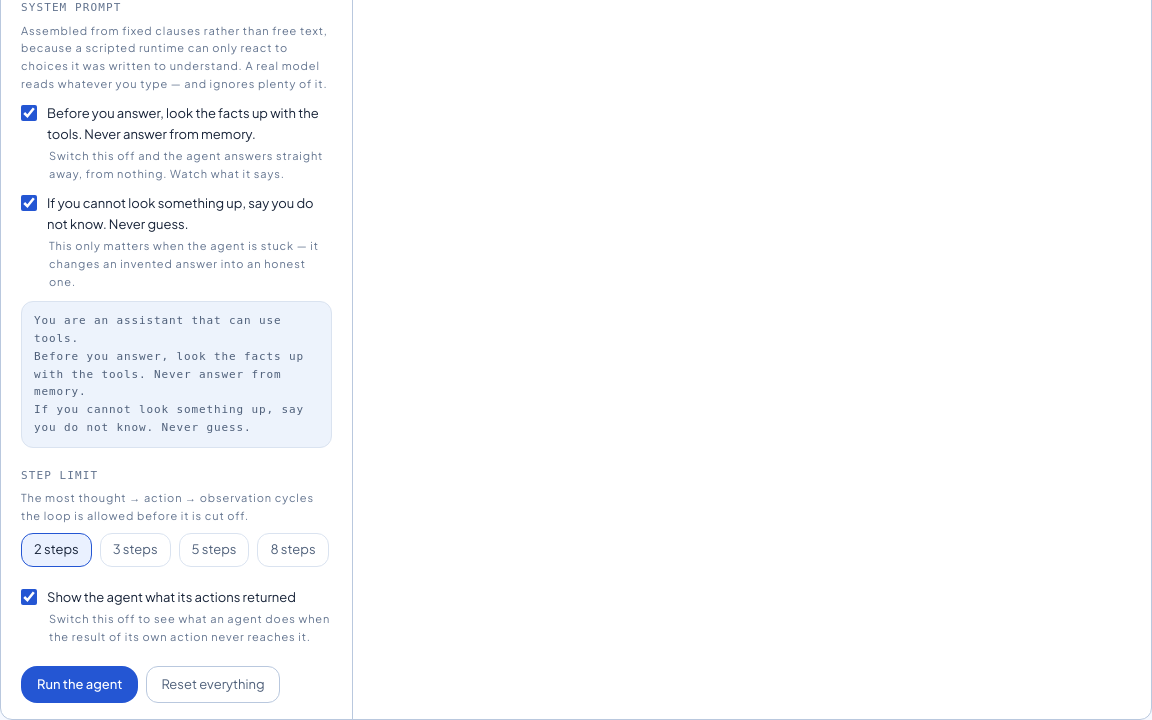
AgentLab — stepping through a trace › steps back as well as forward, and cannot go back past the first frame
This screenshot has width=1152, height=720.
(page scrolled)
Click the button "Run the agent" at (80, 684), box [21, 666, 138, 703]
(page scrolled)
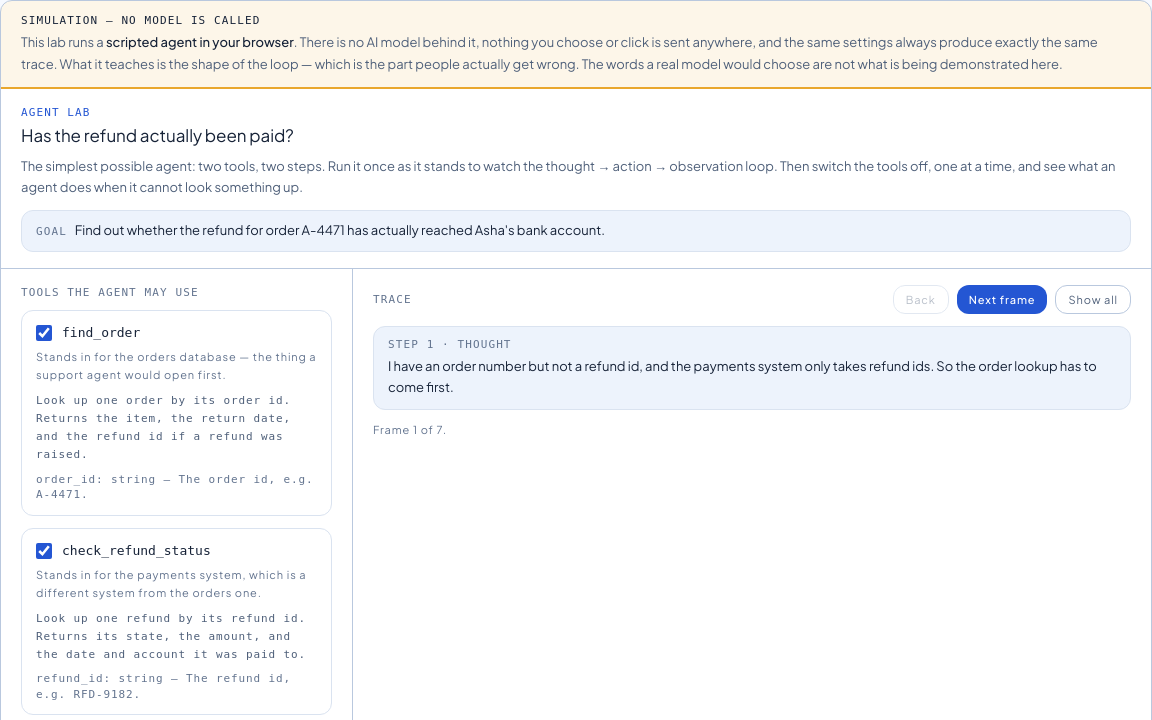
Now the button "Back" is disabled, box [893, 285, 949, 314]
Click the button "Next frame" at (1002, 299), box [957, 285, 1048, 314]
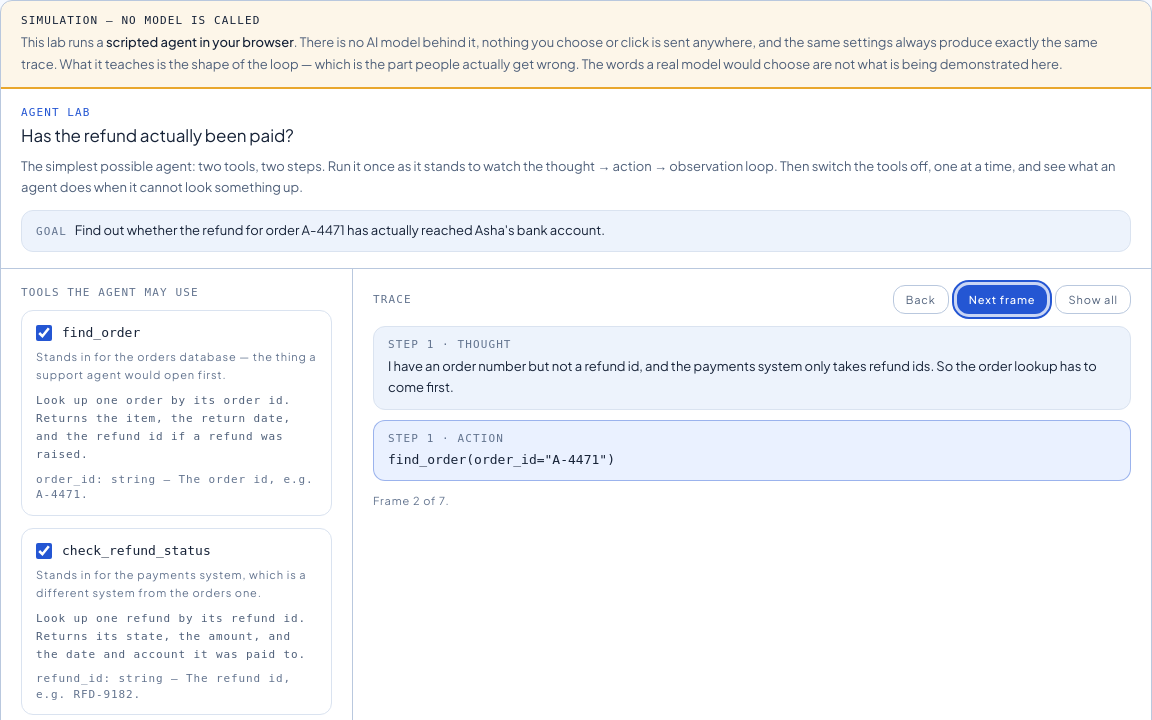
Now the button "Back" is enabled
Click the button "Back" at (921, 299), box [893, 285, 949, 314]
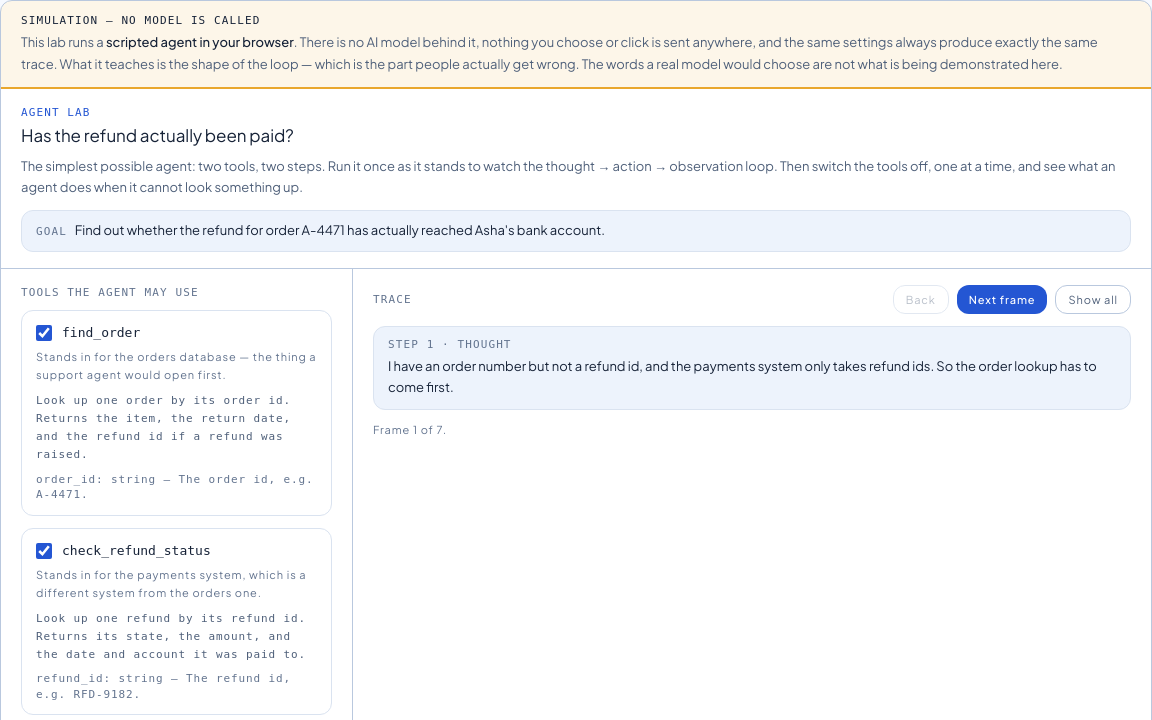
Now the text "Frame 1 of 7." is shown, box [373, 423, 447, 436]
